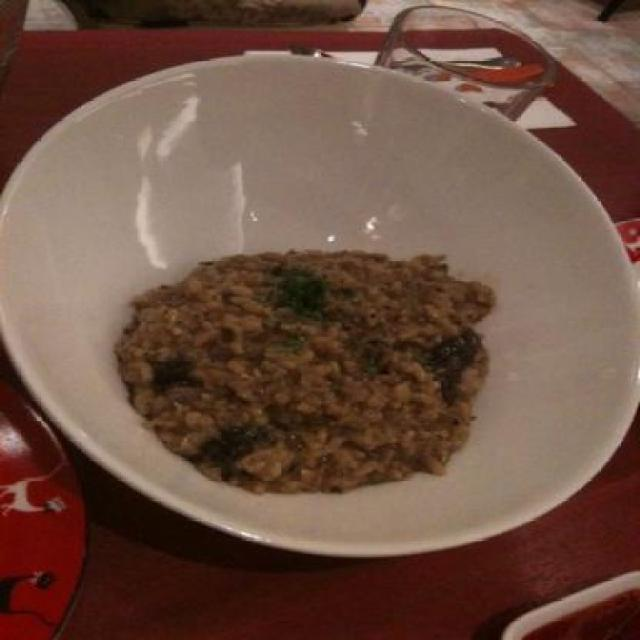Risotto: (120, 229, 516, 482)
